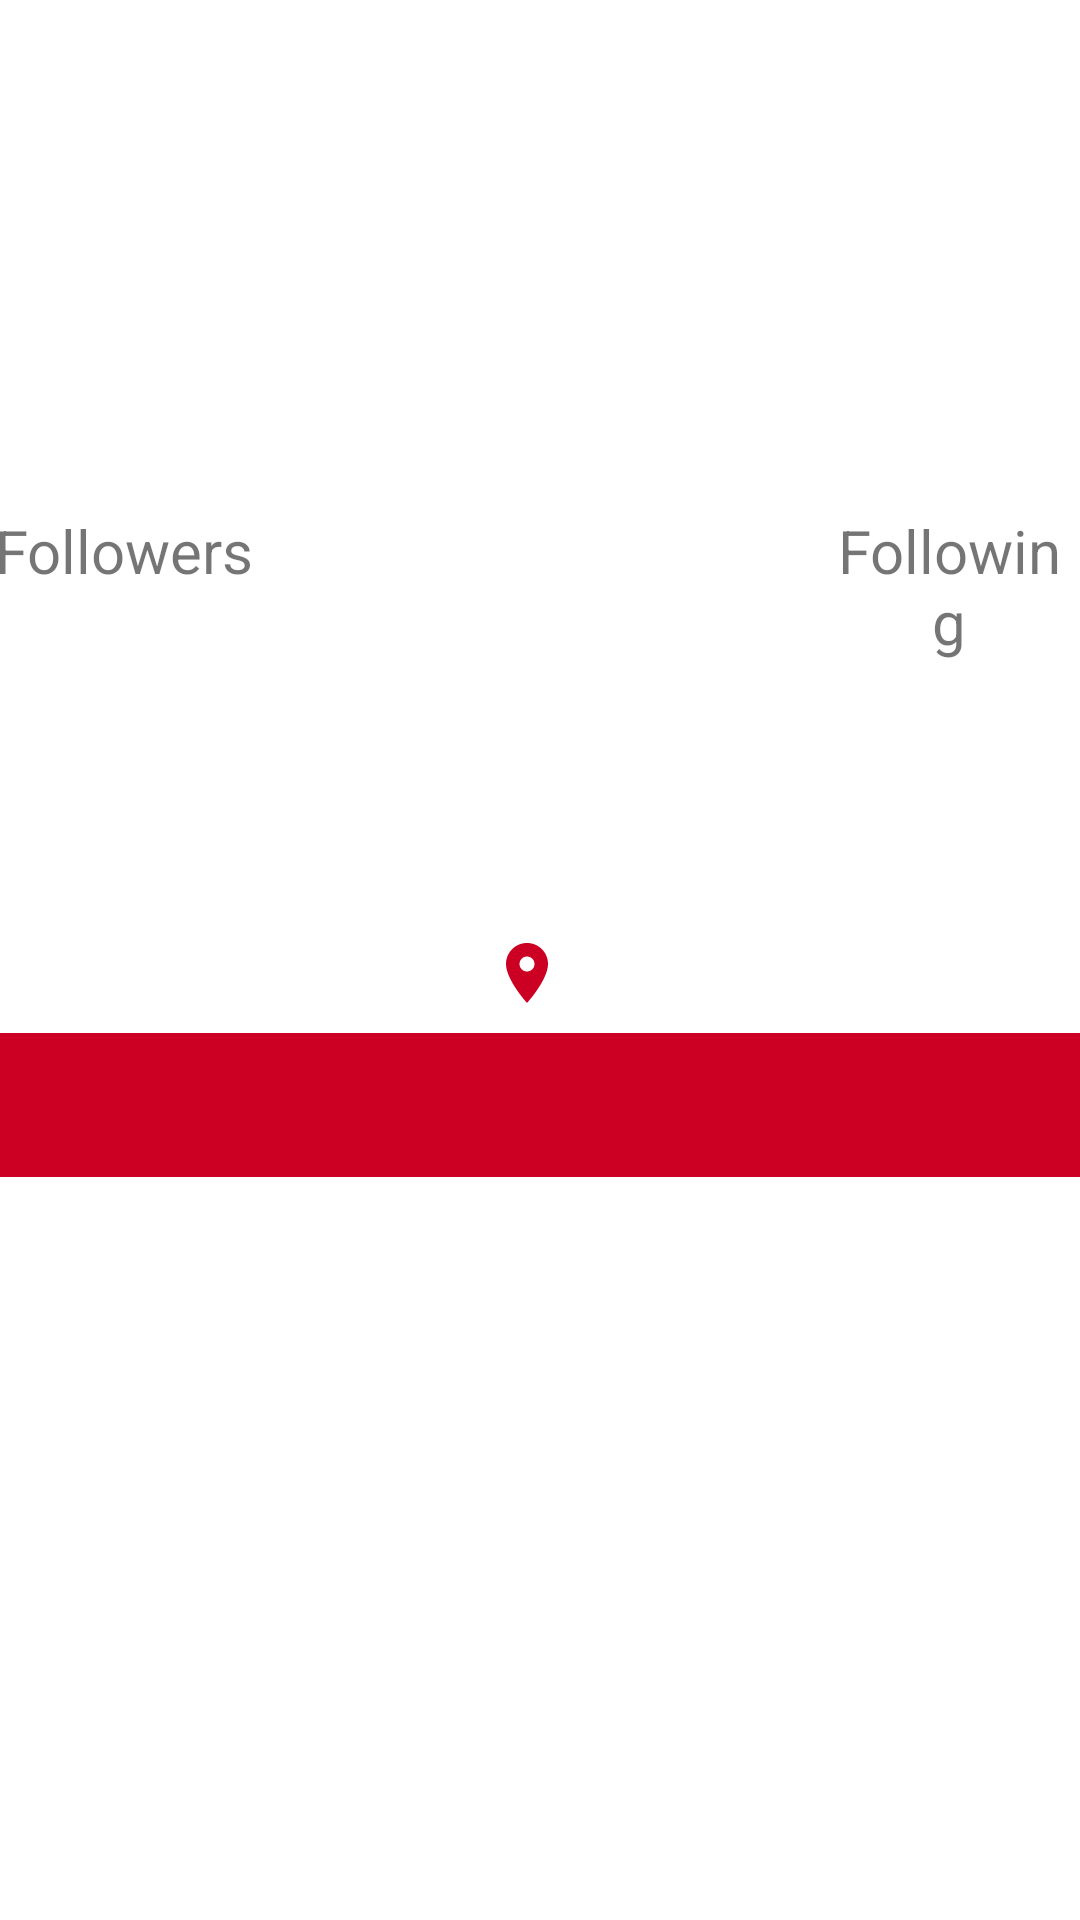

Screen size 1080*1920. Icon name, then its box in pixels as [x1=x1, y1=y1, x2=x2, y2=y2]:
location: [x1=506, y1=943, x2=548, y2=1003]
